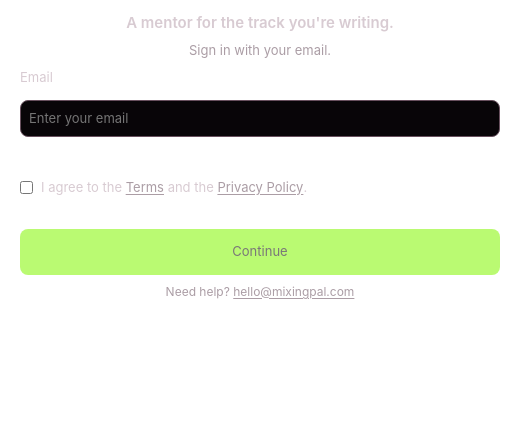
words sign-in for open sign-up
The image size is (521, 446).
expect the text "Sign in with your email." is shown: met, box [189,42,331,58]
Type "producer@example.com" into the field labelled "Email" at (260, 119), box [20,100,500,137]
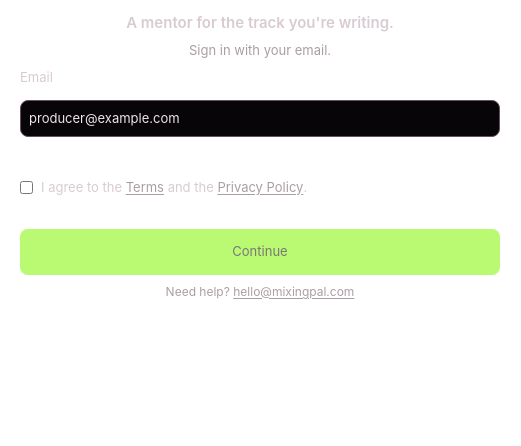
Click the checkbox labelled "I agree to the Terms and the Privacy Policy ." at (26, 187), box [20,181,33,194]
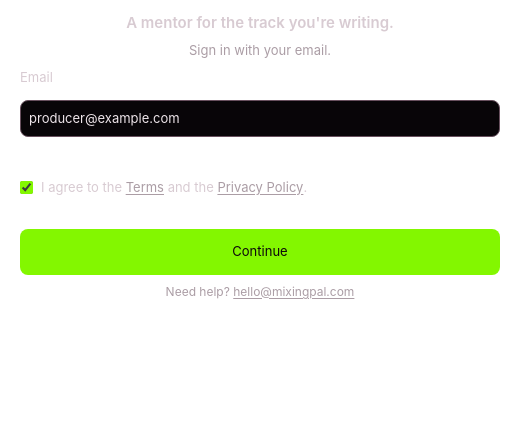
Click the button "Continue" at (260, 252), box [20,229,500,275]
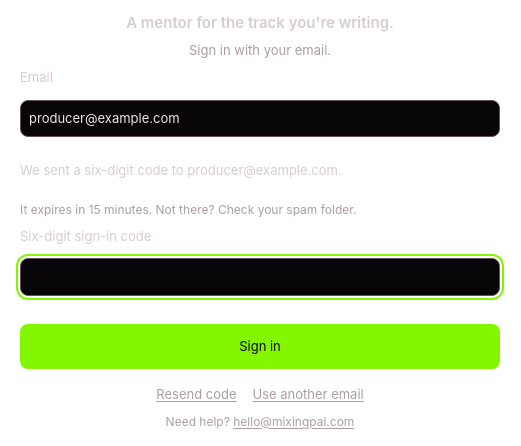
expect the text "We sent a six-digit code to producer@example.com." is shown: met, box [20,162,342,178]
